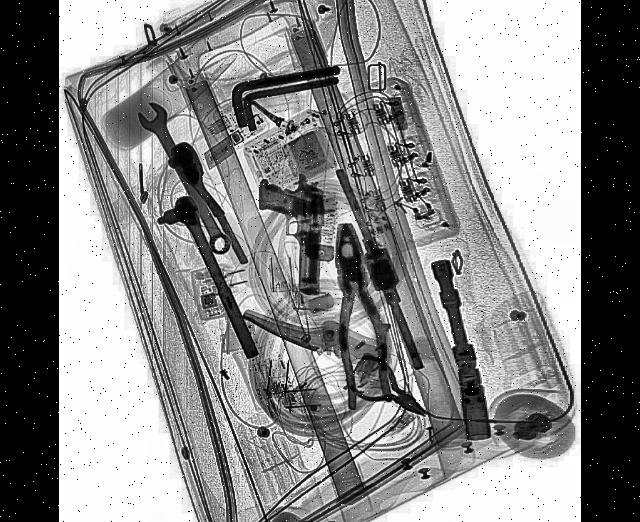Gun: (256, 168, 326, 294)
Pliers: (326, 216, 396, 412), (346, 344, 434, 432)
Wrench: (137, 92, 237, 262)
